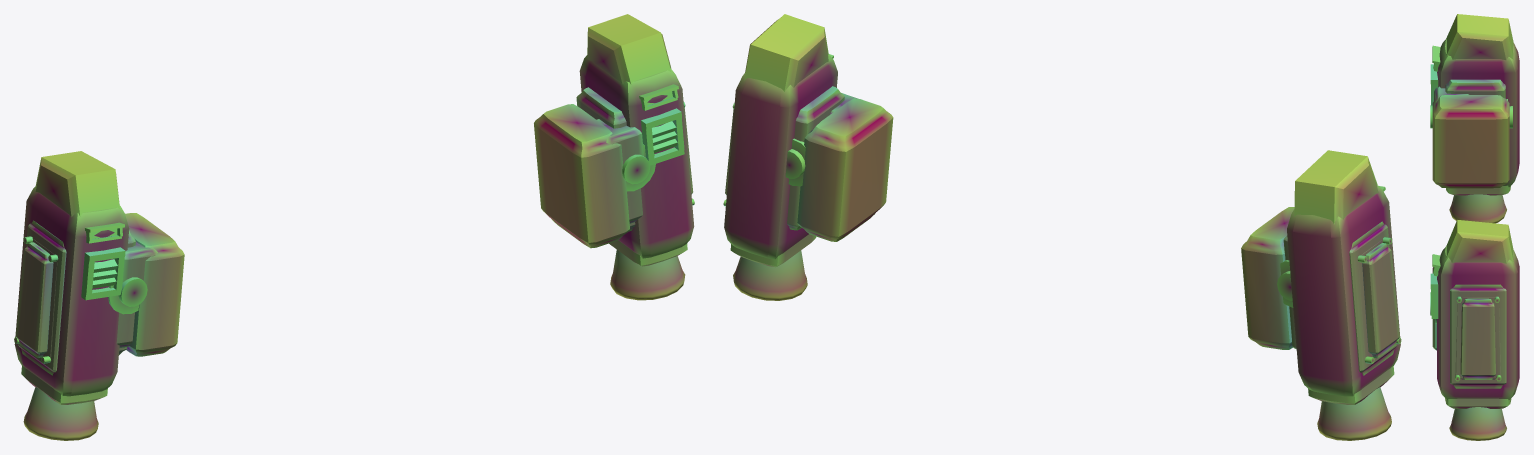
The model's file is llm_gen_leg_thrusters_086_060bef.glb.
The picture shows the model from 3 angles, left to right: view 1: azimuth 30°, elevation 25°; view 2: azimuth 150°, elevation 25°; view 3: azimuth 270°, elevation 25°; orthographic projection. The views are drawn at different scales.
Parts seen in each view (by area): view 1: adapter_calf_clamp_r, calf_thruster_hull_1_cobalt_anodized_l, calf_thruster_hull_1_cobalt_anodized_r, adapter_calf_clamp_l, nacelle_upper_cowl_2_amber_optic_r, nacelle_upper_cowl_2_amber_optic_l, nacelle_flank_armor_6_amber_optic_l, calf_main_bell_8_vernier_bell_vernier_l, calf_main_bell_8_vernier_bell_vernier_r, adapter_sub_flank_frame_dark_5_adapter_dark_l, adapter_sub_nacelle_intake_louver_3_dark_l, adapter_sub_nacelle_intake_louver_3_dark_r (+7 smaller); view 2: calf_thruster_hull_1_cobalt_anodized_l, calf_thruster_hull_1_cobalt_anodized_r, adapter_calf_clamp_r, adapter_calf_clamp_l, nacelle_upper_cowl_2_amber_optic_r, nacelle_upper_cowl_2_amber_optic_l, nacelle_flank_armor_6_amber_optic_l, calf_main_bell_8_vernier_bell_vernier_l, calf_main_bell_8_vernier_bell_vernier_r, adapter_sub_flank_frame_dark_5_adapter_dark_l, adapter_sub_tank_cradle_dark_0_adapter_dark_r, adapter_sub_nozzle_shroud_dark_7_adapter_dark_l (+1 smaller); view 3: adapter_calf_clamp_l, calf_thruster_hull_1_cobalt_anodized_r, nacelle_flank_armor_6_amber_optic_r, calf_thruster_hull_1_cobalt_anodized_l, nacelle_upper_cowl_2_amber_optic_l, nacelle_upper_cowl_2_amber_optic_r, adapter_sub_flank_frame_dark_5_adapter_dark_r, calf_main_bell_8_vernier_bell_vernier_r, calf_main_bell_8_vernier_bell_vernier_l, adapter_sub_tank_cradle_dark_0_adapter_dark_l, adapter_sub_nozzle_shroud_dark_7_adapter_dark_r, adapter_sub_nozzle_shroud_dark_7_adapter_dark_l (+7 smaller).
Boxes of the visible parts, x1,y1,x2,y2 form: adapter_calf_clamp_r: (534, 104, 655, 248); calf_thruster_hull_1_cobalt_anodized_l: (14, 185, 129, 396); calf_thruster_hull_1_cobalt_anodized_r: (579, 54, 694, 258); adapter_calf_clamp_l: (108, 213, 184, 356); nacelle_upper_cowl_2_amber_optic_r: (587, 14, 671, 84); nacelle_upper_cowl_2_amber_optic_l: (35, 151, 119, 216); nacelle_flank_armor_6_amber_optic_l: (14, 236, 58, 363); calf_main_bell_8_vernier_bell_vernier_l: (23, 387, 98, 440); calf_main_bell_8_vernier_bell_vernier_r: (610, 250, 685, 300); adapter_sub_flank_frame_dark_5_adapter_dark_l: (18, 220, 66, 375); adapter_sub_nacelle_intake_louver_3_dark_l: (81, 247, 125, 300); adapter_sub_nacelle_intake_louver_3_dark_r: (641, 108, 684, 165); calf_thruster_hull_1_cobalt_anodized_l: (1287, 185, 1400, 396); calf_thruster_hull_1_cobalt_anodized_r: (724, 54, 837, 259); adapter_calf_clamp_r: (788, 98, 893, 241); adapter_calf_clamp_l: (1241, 207, 1294, 349); nacelle_upper_cowl_2_amber_optic_r: (744, 14, 828, 91); nacelle_upper_cowl_2_amber_optic_l: (1294, 150, 1378, 224); nacelle_flank_armor_6_amber_optic_l: (1357, 237, 1401, 363); calf_main_bell_8_vernier_bell_vernier_l: (1317, 387, 1391, 440); calf_main_bell_8_vernier_bell_vernier_r: (733, 250, 807, 300); adapter_sub_flank_frame_dark_5_adapter_dark_l: (1349, 221, 1397, 375); adapter_sub_tank_cradle_dark_0_adapter_dark_r: (787, 86, 844, 230); adapter_sub_nozzle_shroud_dark_7_adapter_dark_l: (1308, 366, 1394, 404); adapter_calf_clamp_l: (1432, 95, 1509, 188); calf_thruster_hull_1_cobalt_anodized_r: (1437, 246, 1519, 400); nacelle_flank_armor_6_amber_optic_r: (1455, 296, 1501, 381); calf_thruster_hull_1_cobalt_anodized_l: (1437, 39, 1519, 186); nacelle_upper_cowl_2_amber_optic_l: (1446, 14, 1513, 60); nacelle_upper_cowl_2_amber_optic_r: (1446, 220, 1513, 263); adapter_sub_flank_frame_dark_5_adapter_dark_r: (1450, 284, 1506, 388); calf_main_bell_8_vernier_bell_vernier_r: (1449, 407, 1506, 440); calf_main_bell_8_vernier_bell_vernier_l: (1449, 194, 1506, 223); adapter_sub_tank_cradle_dark_0_adapter_dark_l: (1445, 79, 1505, 98); adapter_sub_nozzle_shroud_dark_7_adapter_dark_r: (1445, 398, 1511, 408); adapter_sub_nozzle_shroud_dark_7_adapter_dark_l: (1446, 185, 1510, 195).
Size of the model in its own units: 82.51 by 31.74 by 12.73.
